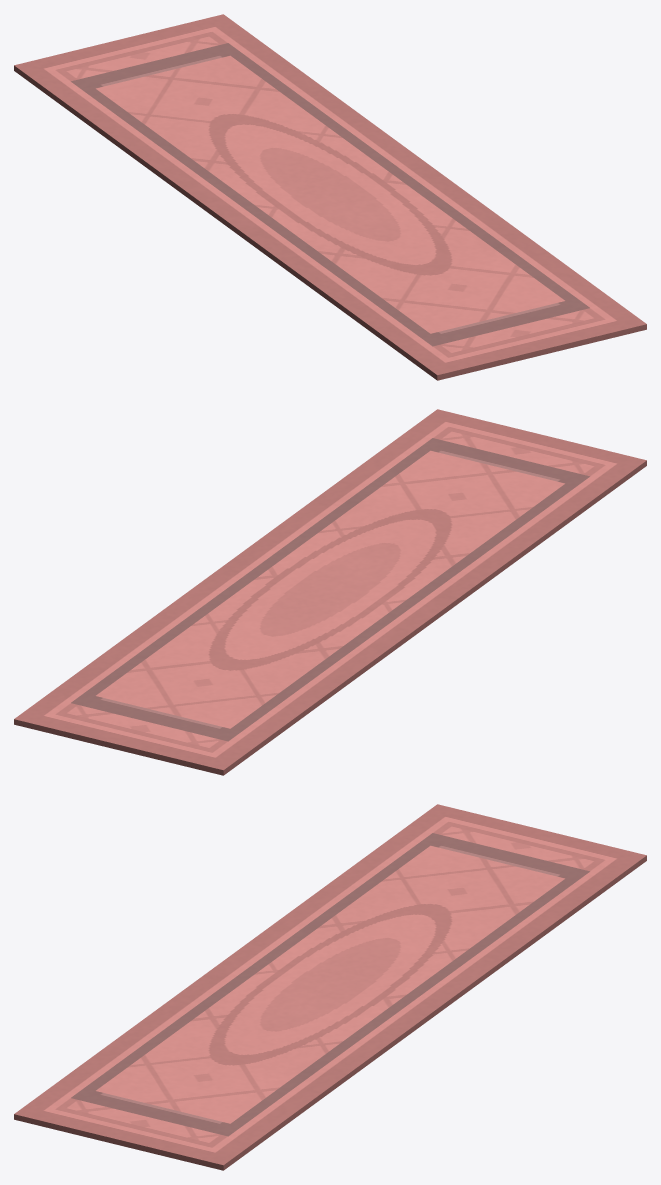
File: runner.glb
3 views of the same model, one above another, from view 1: azimuth 30°, elevation 25°; view 2: azimuth 150°, elevation 25°; view 3: azimuth 330°, elevation 25° (orthographic).
Visible parts, largest first — view 1: runner; view 2: runner; view 3: runner.
Boxes of the visible parts, x1,y1,x2,y2 form: runner: (14,14,646,380); runner: (14,409,646,775); runner: (14,804,646,1170).
Size of the model in its own units: 0.8 by 0.02 by 2.8.
2 materials, 2 textured.
